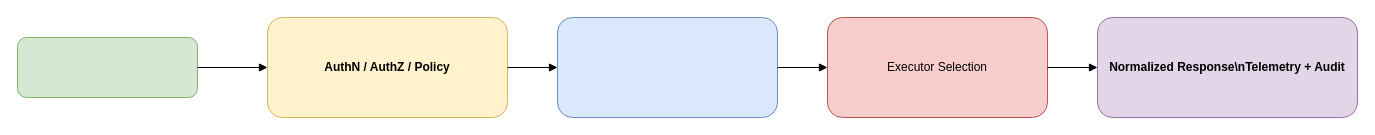
Image size: 1375x135. Some labels were removed from this diagram. Each missing label, with the centre of its shape:
Capability Resolution\nRouting: (x=667, y=67)
Execution Request: (x=107, y=67)
